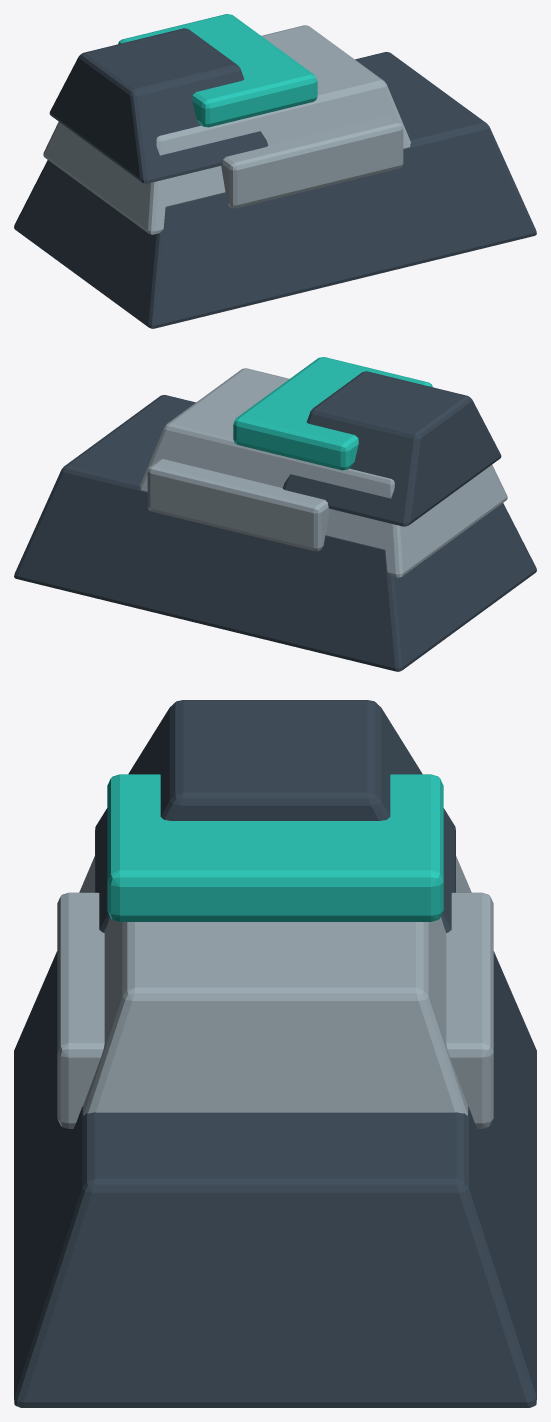
The model's file is SM_Drudge_Body.fbx.
3 renders of one model, top to bottom at view 1: azimuth 30°, elevation 25°; view 2: azimuth 150°, elevation 25°; view 3: azimuth 270°, elevation 25°, orthographic. The views are drawn at different scales.
Parts seen in each view (by area): view 1: SM_Drudge_Body; view 2: SM_Drudge_Body; view 3: SM_Drudge_Body.
Boxes of the visible parts, bbox=[...] form: SM_Drudge_Body: bbox=[14, 14, 536, 328]; SM_Drudge_Body: bbox=[14, 357, 536, 671]; SM_Drudge_Body: bbox=[14, 700, 536, 1407].
Size of the model in its own units: 28.41 by 17.65 by 14.15.
